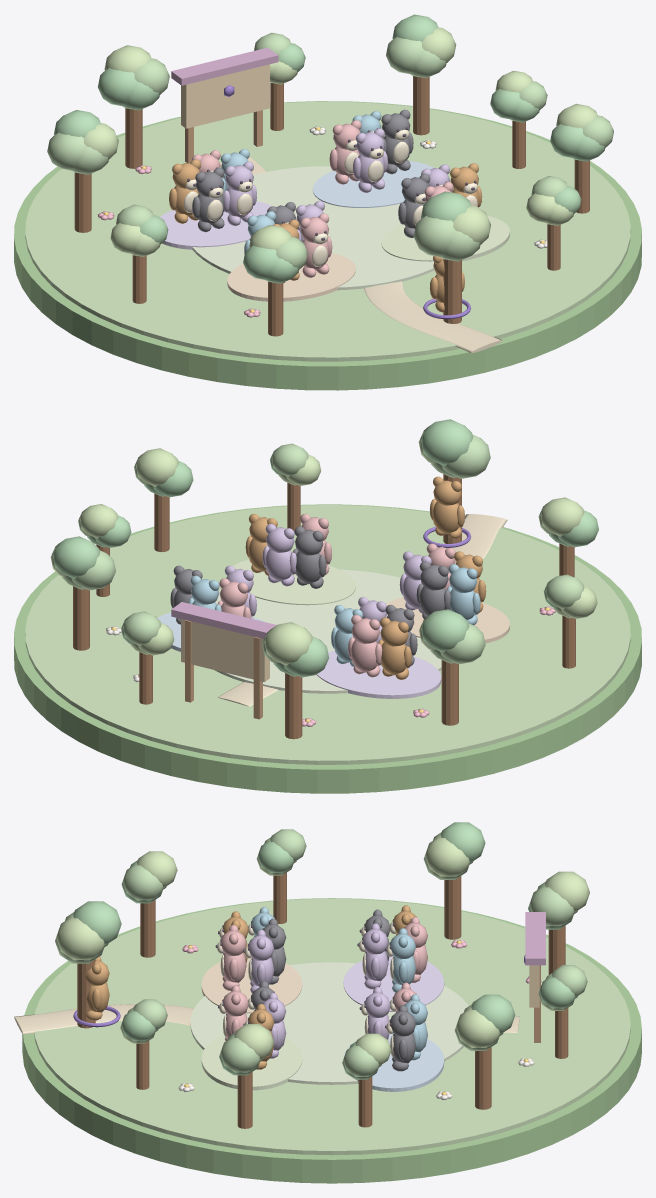
The model's file is plaza-prototype.glb.
The picture shows the model from 3 angles, top to bottom: view 1: azimuth 30°, elevation 25°; view 2: azimuth 150°, elevation 25°; view 3: azimuth 270°, elevation 25°; orthographic projection.
Visible parts, largest first — view 1: GroundTop, GroundBase, CentralPlaza, NoticeBoard, GentlePath, Outing_FeelingArea, Sleep_FeelingArea, Tired_FeelingArea, Feeding_FeelingArea, NoticeBoardRoof, Tree_07_Crown_0, Tree_03_Crown_0 (+39 smaller); view 2: GroundTop, GroundBase, CentralPlaza, NoticeBoard, Tired_FeelingArea, Feeding_FeelingArea, GentlePath, Tree_07_Crown_2, NoticeBoardRoof, Tree_03_Crown_2, Tree_04_Crown_2, Tree_01_Crown_2 (+33 smaller); view 3: GroundTop, GroundBase, CentralPlaza, Feeding_FeelingArea, Sleep_FeelingArea, GentlePath, Tired_FeelingArea, Outing_FeelingArea, Tree_07_Crown_1, Tree_07_Crown_2, Tree_04_Crown_1, Tree_01_Crown_1 (+27 smaller).
Boxes of the visible parts, x1=… form: GroundTop: x1=25, y1=101, x2=630, y2=361; GroundBase: x1=14, y1=101, x2=641, y2=390; CentralPlaza: x1=192, y1=166, x2=434, y2=290; NoticeBoard: x1=181, y1=64, x2=269, y2=128; GentlePath: x1=220, y1=156, x2=502, y2=352; Outing_FeelingArea: x1=227, y1=253, x2=355, y2=301; Sleep_FeelingArea: x1=312, y1=160, x2=433, y2=207; Tired_FeelingArea: x1=160, y1=201, x2=271, y2=249; Feeding_FeelingArea: x1=381, y1=216, x2=509, y2=261; NoticeBoardRoof: x1=171, y1=47, x2=278, y2=85; Tree_07_Crown_0: x1=413, y1=215, x2=455, y2=257; Tree_03_Crown_0: x1=98, y1=68, x2=137, y2=106; GroundTop: x1=25, y1=505, x2=630, y2=764; GroundBase: x1=14, y1=504, x2=641, y2=793; CentralPlaza: x1=214, y1=569, x2=441, y2=693; NoticeBoard: x1=181, y1=619, x2=269, y2=681; Tired_FeelingArea: x1=317, y1=650, x2=441, y2=698; Feeding_FeelingArea: x1=233, y1=559, x2=355, y2=605; GentlePath: x1=217, y1=514, x2=507, y2=706; Tree_07_Crown_2: x1=421, y1=419, x2=472, y2=465; NoticeBoardRoof: x1=171, y1=602, x2=276, y2=638; Tree_03_Crown_2: x1=264, y1=622, x2=312, y2=665; Tree_04_Crown_2: x1=421, y1=609, x2=469, y2=652; Tree_01_Crown_2: x1=52, y1=536, x2=99, y2=578; GroundTop: x1=34, y1=898, x2=630, y2=1155; GroundBase: x1=22, y1=898, x2=641, y2=1183; CentralPlaza: x1=190, y1=962, x2=468, y2=1084; Feeding_FeelingArea: x1=201, y1=1035, x2=302, y2=1090; Sleep_FeelingArea: x1=343, y1=1033, x2=444, y2=1091; GentlePath: x1=14, y1=1004, x2=519, y2=1034; Tired_FeelingArea: x1=343, y1=956, x2=444, y2=1011; Outing_FeelingArea: x1=201, y1=957, x2=302, y2=1013; Tree_07_Crown_1: x1=56, y1=915, x2=104, y2=960; Tree_07_Crown_2: x1=73, y1=901, x2=121, y2=945; Tree_04_Crown_1: x1=425, y1=835, x2=469, y2=876; Tree_01_Crown_1: x1=455, y1=1007, x2=500, y2=1047.
Bounding box in the file's own units: 16.6 × 4.42 × 16.83.
